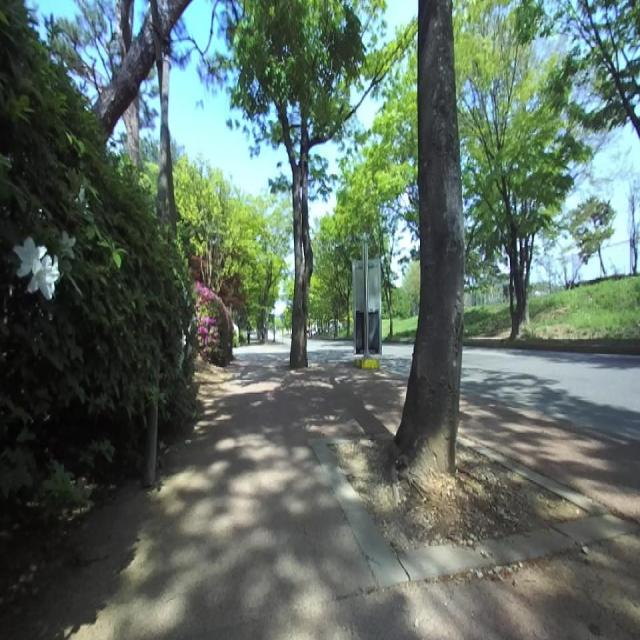sidewalk: (112, 360, 640, 640), (458, 392, 640, 527)
